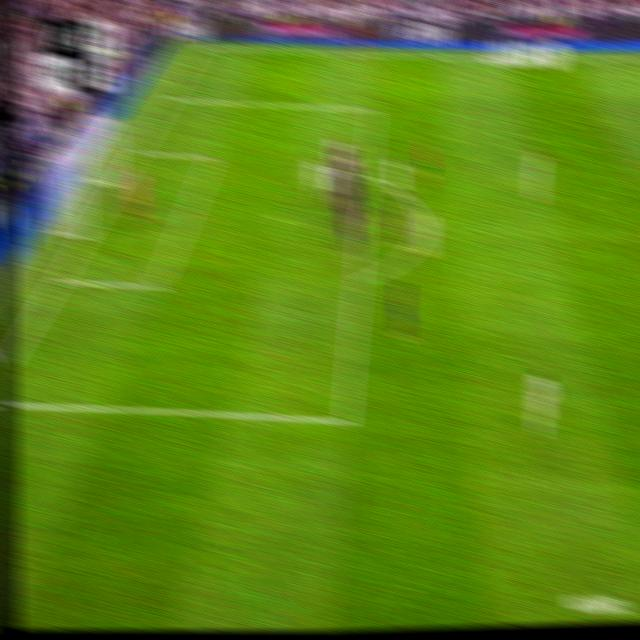bigarea_bottom_inner: (147, 271, 166, 296)
bigarea_top_inner: (364, 99, 380, 118)
bigarea_top_outter: (162, 90, 175, 104)
corner: (191, 41, 207, 53)
smallarea_bottom_outter: (49, 268, 66, 290)
smallarea_top_inner: (202, 147, 220, 167)
smallarea_top_outter: (130, 142, 144, 159)
